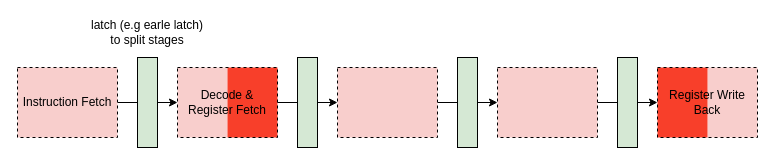
This 775x165 diagram has some shape labels left out. The centre of each missing label's shape, as x and y in pixels:
Execute & Address Calculation: [387,102]
Memory Access: [547,102]
